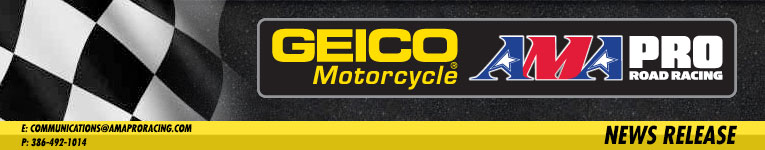Geico: (271, 24, 462, 65)
